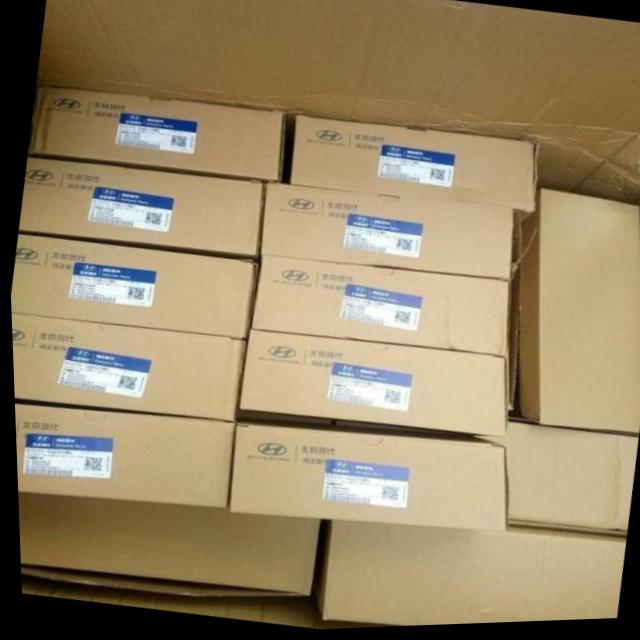box: (307, 523, 622, 629), (225, 418, 504, 536), (14, 494, 315, 599), (514, 193, 640, 441), (235, 333, 505, 443), (290, 116, 538, 231), (248, 258, 508, 361), (9, 234, 254, 342), (9, 313, 245, 423), (27, 86, 285, 185), (258, 185, 512, 285), (17, 157, 263, 259), (12, 403, 233, 511), (469, 425, 635, 540)
